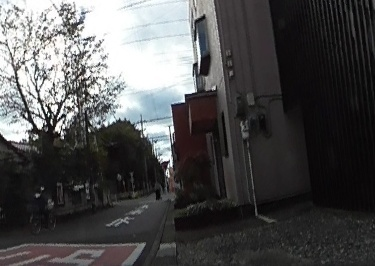person: (32, 186, 46, 224)
